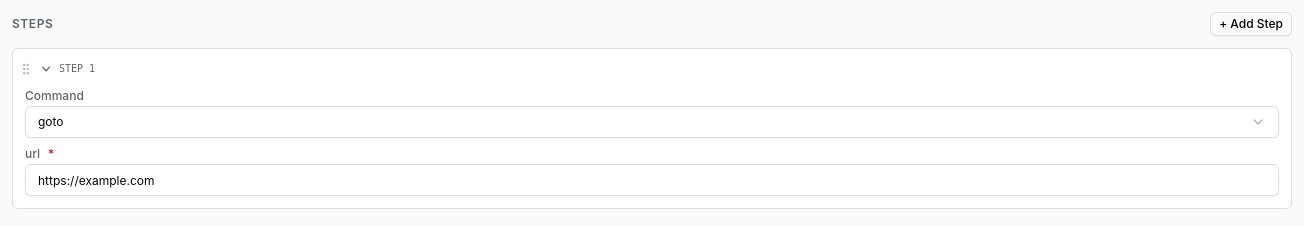
StepBuilder › collapsing › expands again on a second click
The width and height of the screenshot is (1304, 226).
Click the button "STEP 1": [74, 68] box [39, 49, 1291, 88]
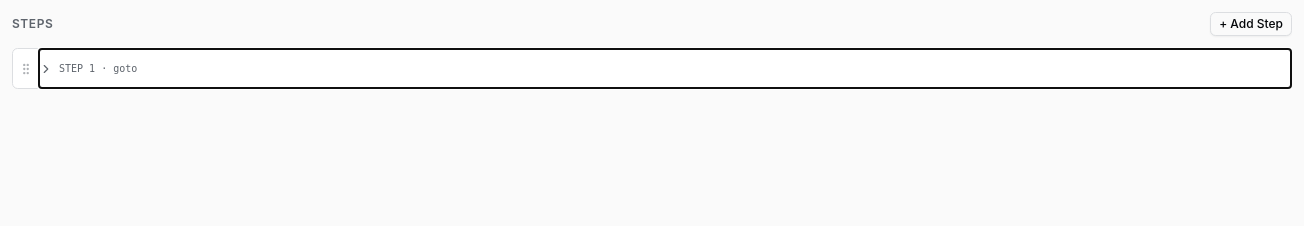
Click the button "STEP 1 · goto": [74, 68] box [39, 49, 1291, 88]
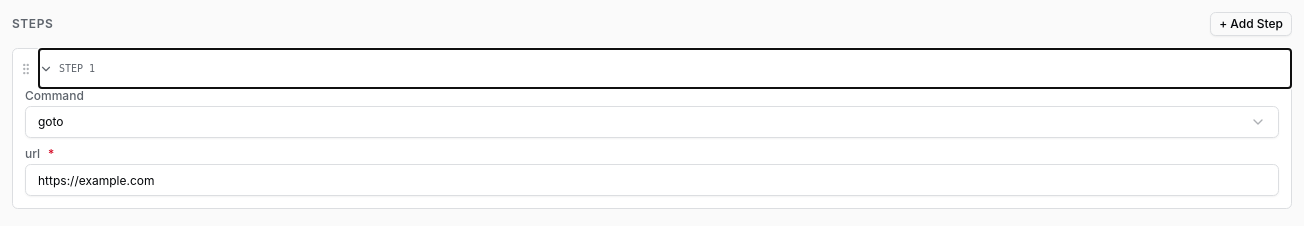
Expected: the text "Command" is shown, [25, 88, 84, 103]
